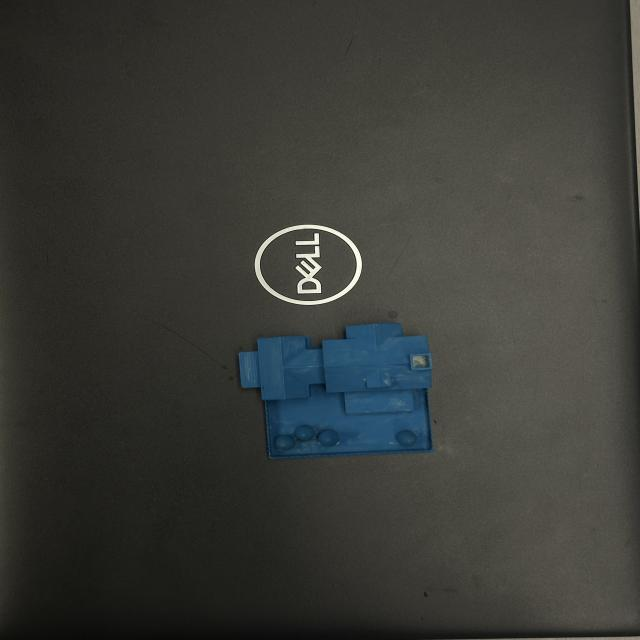house: (234, 320, 439, 460)
